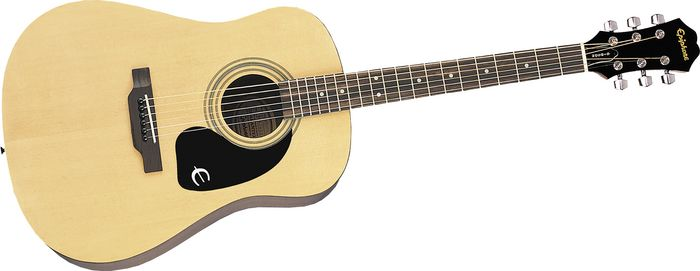guitar: (3, 1, 691, 271)
